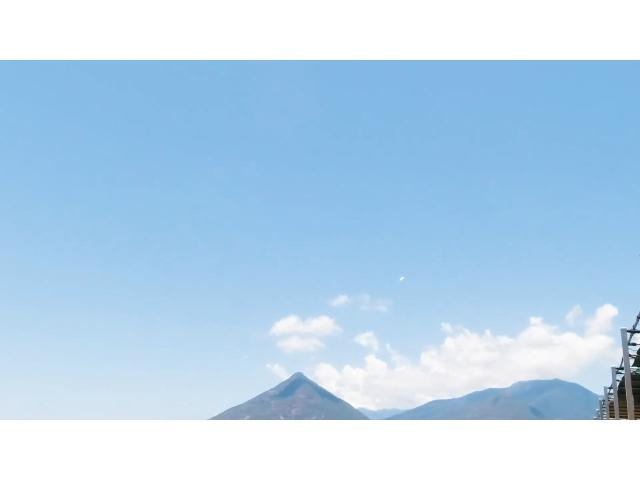Anti-Drone: (390, 262, 416, 292)
